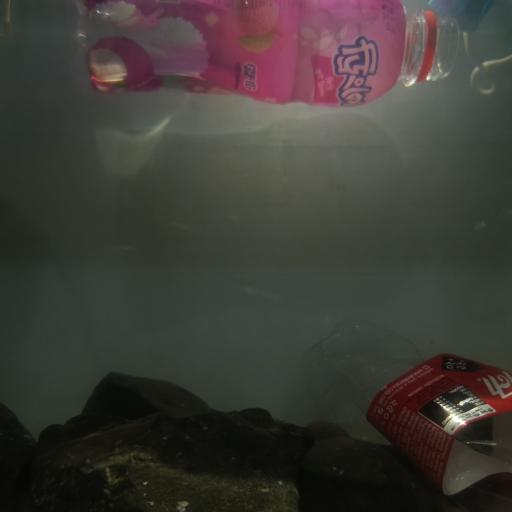mask: (426, 0, 512, 96)
plastic_bottle: (297, 314, 512, 508), (69, 0, 461, 106)
